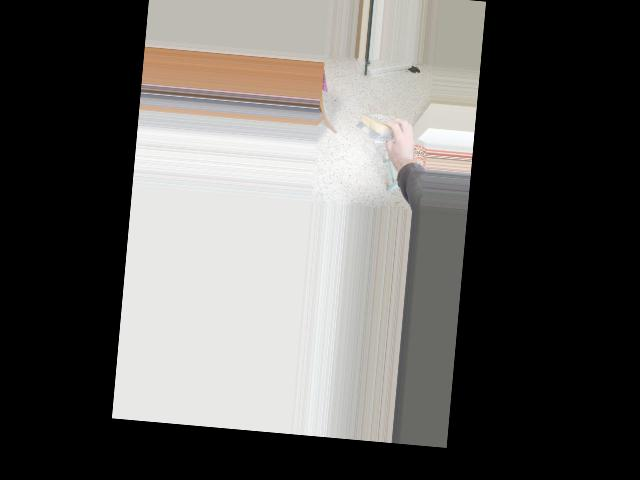cheese: (355, 111, 403, 138)
